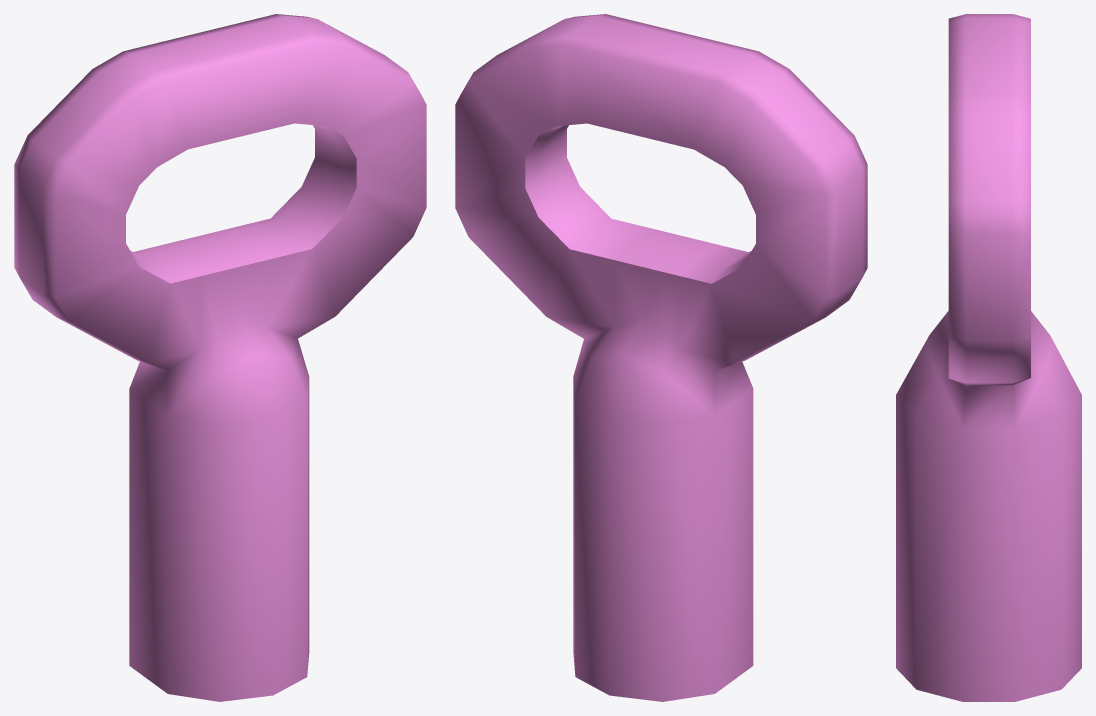
Rendered from Keys_28.FBX.
3 renders of one model, left to right at view 1: azimuth 30°, elevation 25°; view 2: azimuth 150°, elevation 25°; view 3: azimuth 270°, elevation 25°, orthographic.
Visible parts, largest first — view 1: Keys_28; view 2: Keys_28; view 3: Keys_28.
Boxes of the visible parts, x1,y1,x2,y2 form: Keys_28: [14, 14, 426, 701]; Keys_28: [455, 14, 867, 701]; Keys_28: [896, 14, 1081, 701].
Size of the model in its own units: 1.22 by 1.9 by 0.5247.
